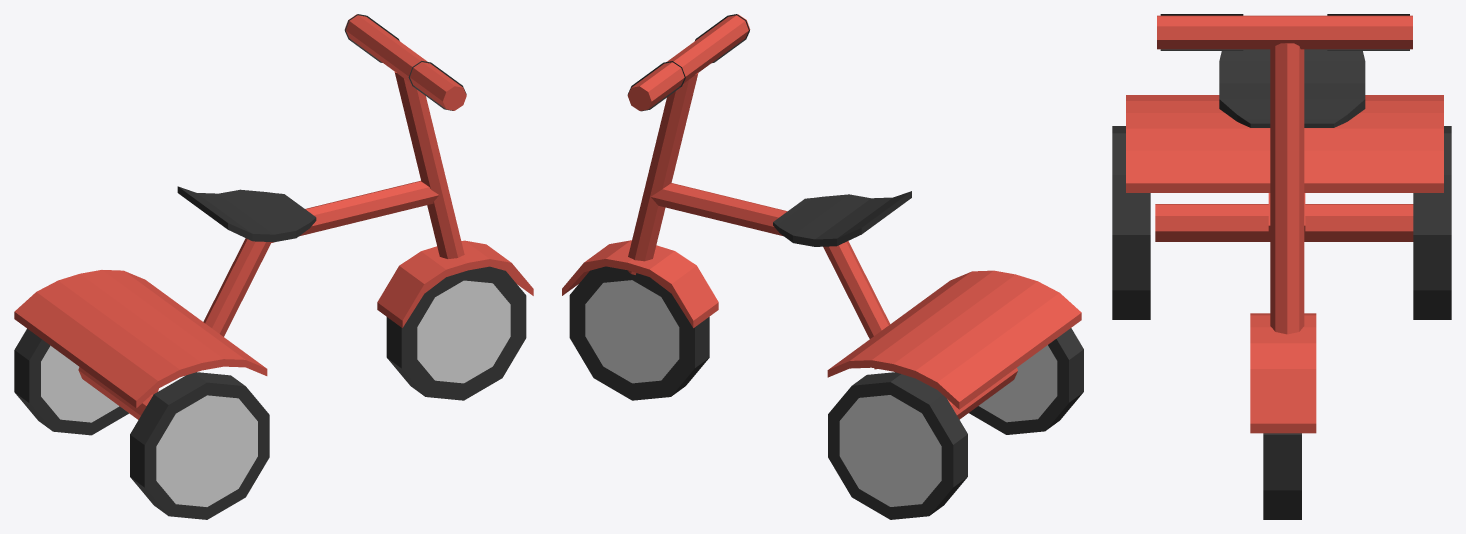
The model's file is tricycle_asset.fbx.
3 views of the same model, side by side, from view 1: azimuth 30°, elevation 25°; view 2: azimuth 150°, elevation 25°; view 3: azimuth 270°, elevation 25° (orthographic). The views are drawn at different scales.
Parts seen in each view (by area): view 1: tricycle; view 2: tricycle; view 3: tricycle.
Part boxes in pixels (x1,y1,x2,y2): tricycle: (14, 14, 533, 519); tricycle: (562, 14, 1083, 519); tricycle: (1112, 14, 1451, 519).
Bounding box in the file's own units: 520 × 399 × 264.
